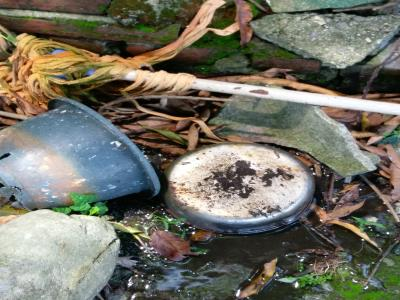bowl: (1, 98, 161, 213), (156, 136, 323, 243)
